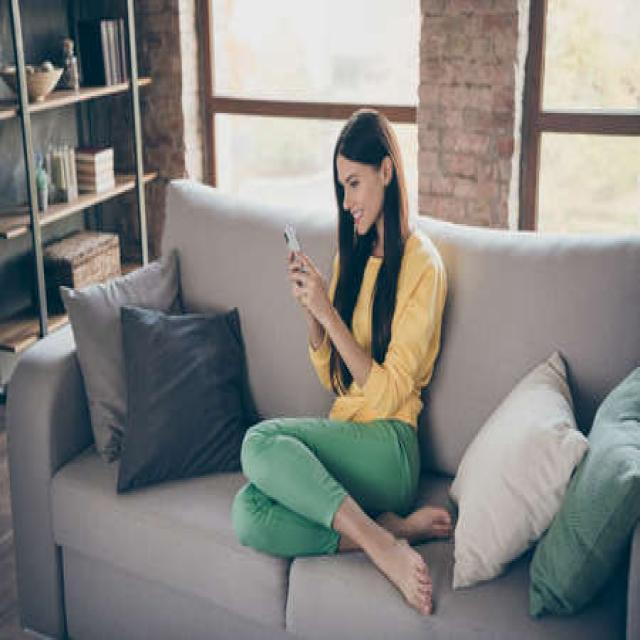smartphone-person: (235, 75, 449, 613)
